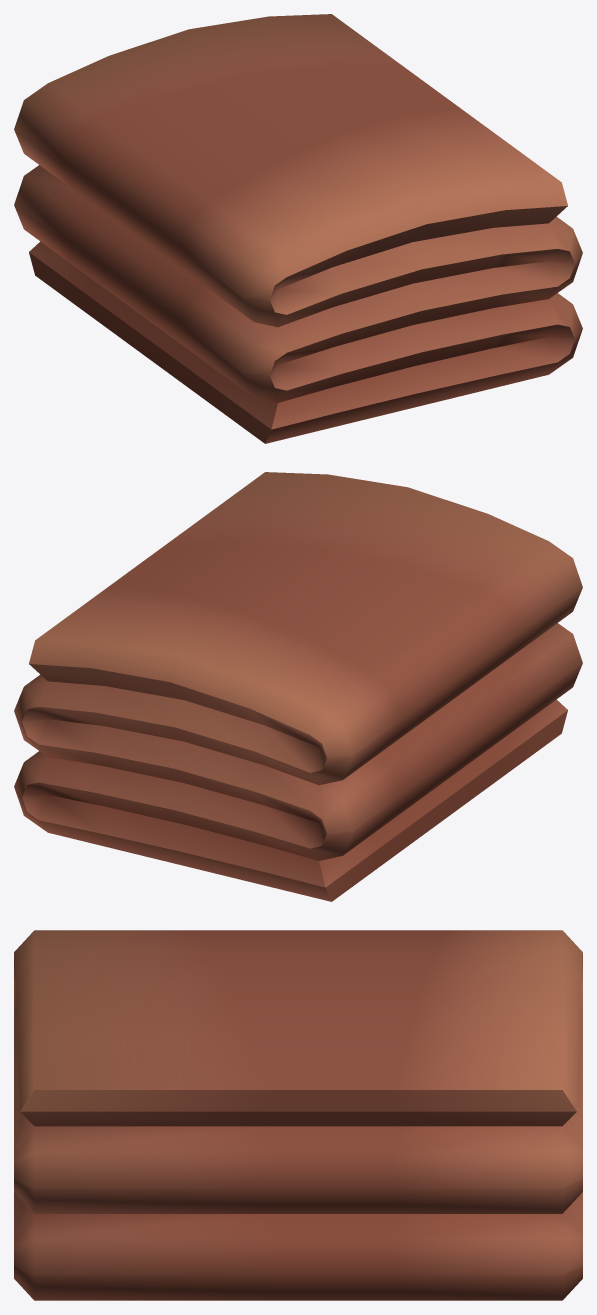
The model's file is Textiles_A.glb.
3 renders of one model, top to bottom at view 1: azimuth 30°, elevation 25°; view 2: azimuth 150°, elevation 25°; view 3: azimuth 270°, elevation 25°, orthographic. The views are drawn at different scales.
Visible parts, largest first — view 1: Textiles_A; view 2: Textiles_A; view 3: Textiles_A.
Part boxes in pixels (x1,y1,x2,y2): Textiles_A: [14, 14, 582, 443]; Textiles_A: [14, 472, 582, 901]; Textiles_A: [14, 930, 582, 1300].
Bounding box in the file's own units: 0.75 × 0.4413 × 0.95.
Materials: 1 (1 with a texture image).
